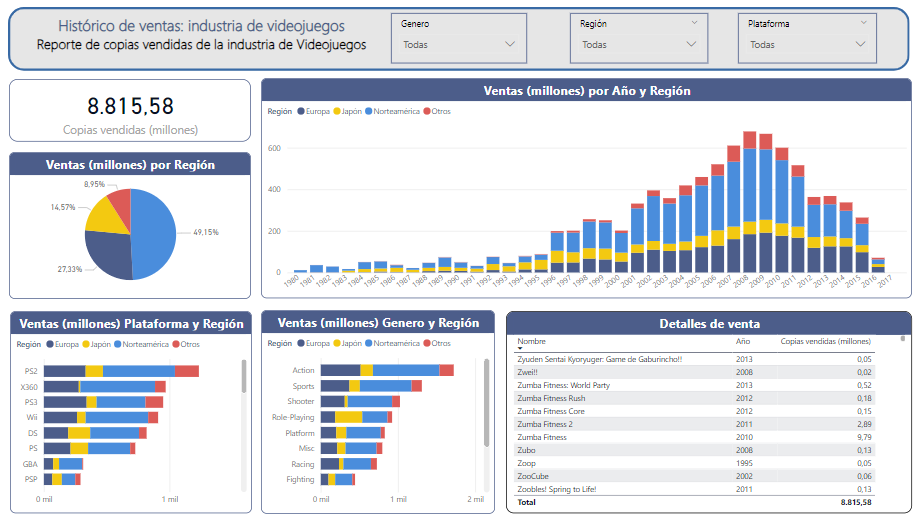

This screenshot's page, from the dashboard's own definition file:
{"tool":"powerbi","page":{"name":"Reporte VideoJuegos","canvas":[1280,720],"ordinal":0},"visuals":[{"type":"shape","box":[13.1,11.5,1252.5,88.5],"z":0},{"type":"tableEx","title":"Detalles de venta","fields":{"Values":["Ventas Videojuegos.Nombre","Ventas Videojuegos.Año","Sum(Ventas Videojuegos.Copias vendidas (millones))"]},"box":[703.8,434,564.2,281.1],"z":1000},{"type":"columnChart","title":"Ventas (millones) por Año y Región","fields":{"Category":["Ventas Videojuegos.Año"],"Y":["Sum(Ventas Videojuegos.Copias vendidas (millones))"],"Series":["Ventas Videojuegos.Región"]},"box":[363.8,110.1,904.3,305.8],"z":2000},{"type":"pieChart","title":"Ventas (millones) por Región","fields":{"Category":["Ventas Videojuegos.Región"],"Y":["Sum(Ventas Videojuegos.Copias vendidas (millones))"]},"box":[14.5,211.8,335.5,203.9],"z":3000},{"type":"barChart","title":"Ventas (millones) Plataforma y Región","fields":{"Y":["Sum(Ventas Videojuegos.Copias vendidas (millones))"],"Series":["Ventas Videojuegos.Región"],"Category":["Ventas Videojuegos.Plataforma"]},"box":[15.1,434,335.8,281.1],"z":4000},{"type":"barChart","title":"Ventas (millones) Genero y Región","fields":{"Y":["Sum(Ventas Videojuegos.Copias vendidas (millones))"],"Series":["Ventas Videojuegos.Región"],"Category":["Ventas Videojuegos.Genero"]},"box":[364.2,432.1,324.5,283],"z":5000},{"type":"card","fields":{"Values":["Sum(Ventas Videojuegos.Copias vendidas (millones))"]},"box":[14.5,110.5,335.5,86.8],"z":6000},{"type":"slicer","fields":{"Values":["Ventas Videojuegos.Genero"]},"box":[544.3,19.7,188.5,70.5],"z":7000},{"type":"slicer","fields":{"Values":["Ventas Videojuegos.Región"]},"box":[793.4,19.7,191.8,70.5],"z":8000},{"type":"slicer","fields":{"Values":["Ventas Videojuegos.Plataforma"]},"box":[1026.2,19.7,193.4,70.5],"z":9000},{"type":"textbox","box":[36.1,16.4,490.2,78.7],"z":10500}]}

Visuals, with their boxes in screenshot pixels (x1, y1, x2, y2), scaled from the page's 1280x720 canvas onto the 918x515 screenshot:
shape: [9,8,908,72]
"Detalles de venta" tableEx: [505,310,909,511]
"Ventas (millones) por Año y Región" columnChart: [261,79,909,297]
"Ventas (millones) por Región" pieChart: [10,151,251,297]
"Ventas (millones) Plataforma y Región" barChart: [11,310,252,511]
"Ventas (millones) Genero y Región" barChart: [261,309,494,511]
card - Sum(Ventas Videojuegos.Copias vendidas (millones)): [10,79,251,141]
slicer - Ventas Videojuegos.Genero: [390,14,526,65]
slicer - Ventas Videojuegos.Región: [569,14,707,65]
slicer - Ventas Videojuegos.Plataforma: [736,14,875,65]
textbox: [26,12,377,68]
